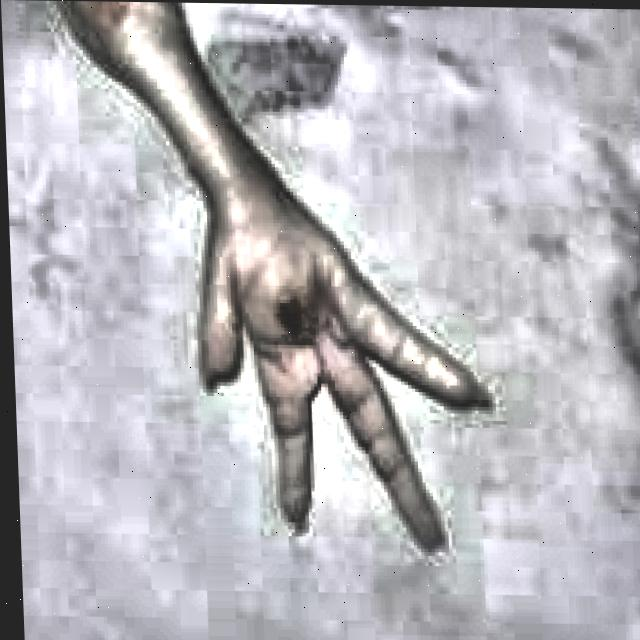Bumble foot: (251, 283, 325, 350)
